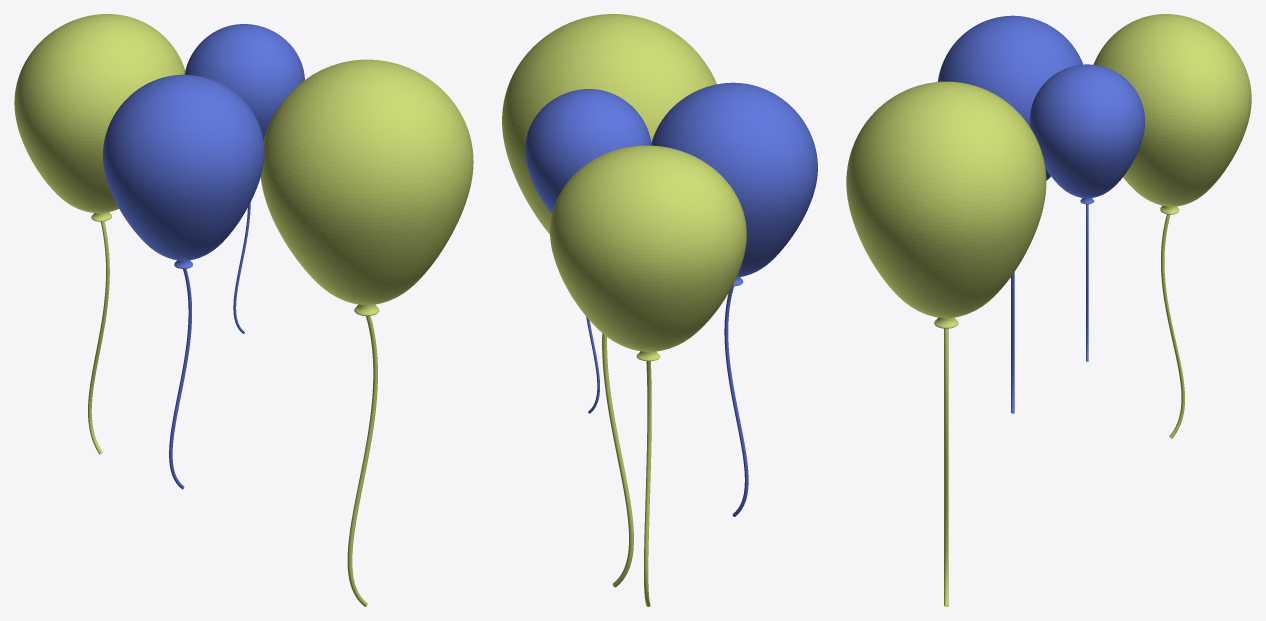
The model's file is Lvl2_balloonlamp_whole_(reference).fbx.
The picture shows the model from 3 angles, left to right: view 1: azimuth 30°, elevation 25°; view 2: azimuth 150°, elevation 25°; view 3: azimuth 270°, elevation 25°; orthographic projection. The views are drawn at different scales.
Visible parts, largest first — view 1: Balloon1, Balloon3, Balloon4, Balloon2; view 2: Balloon4, Balloon1, Balloon3, Balloon2; view 3: Balloon1, Balloon4, Balloon2, Balloon3.
Part boxes in pixels (x1,y1,x2,y2): Balloon1: (260, 59, 473, 606); Balloon3: (103, 74, 264, 489); Balloon4: (14, 14, 185, 454); Balloon2: (184, 24, 304, 333); Balloon4: (550, 145, 746, 606); Balloon1: (502, 14, 716, 587); Balloon3: (651, 82, 817, 516); Balloon2: (525, 89, 651, 413); Balloon1: (846, 81, 1046, 606); Balloon4: (1093, 14, 1251, 438); Balloon2: (1029, 64, 1144, 361); Balloon3: (937, 15, 1083, 413).
Size of the model in its own units: 6.91 by 10.98 by 7.8.
